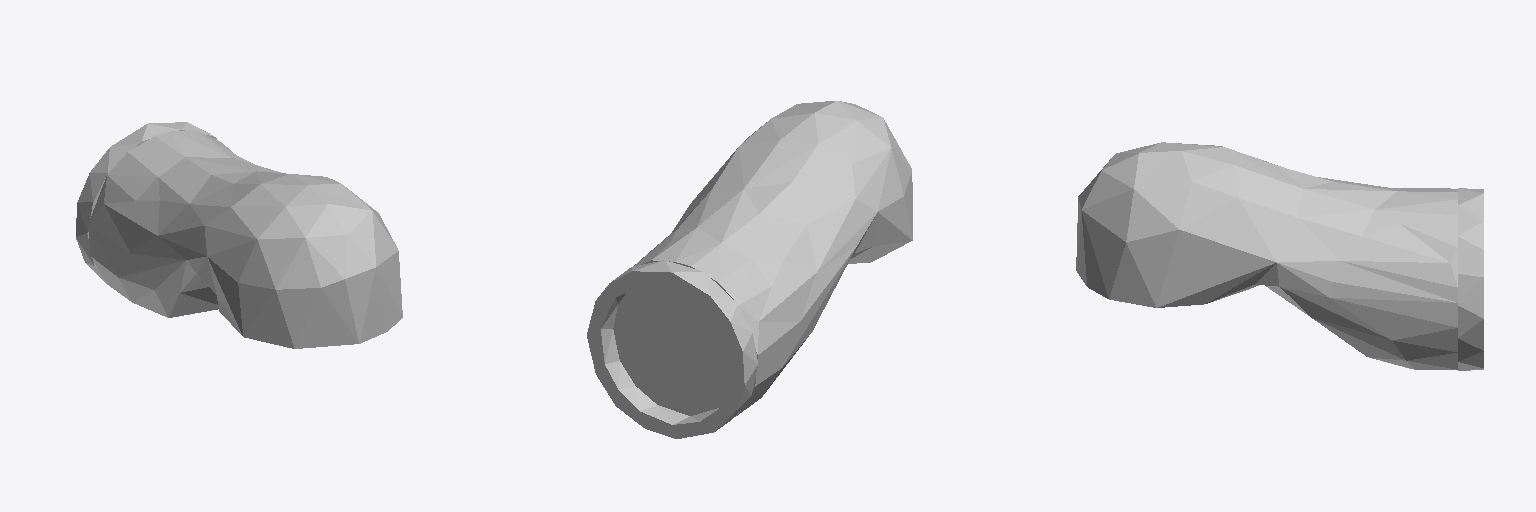
File: col-kuka-link4.obj
3 views of the same model, side by side, from view 1: azimuth 30°, elevation 25°; view 2: azimuth 150°, elevation 25°; view 3: azimuth 270°, elevation 25° (orthographic).
Size of the model in its own units: 121 by 155 by 269.